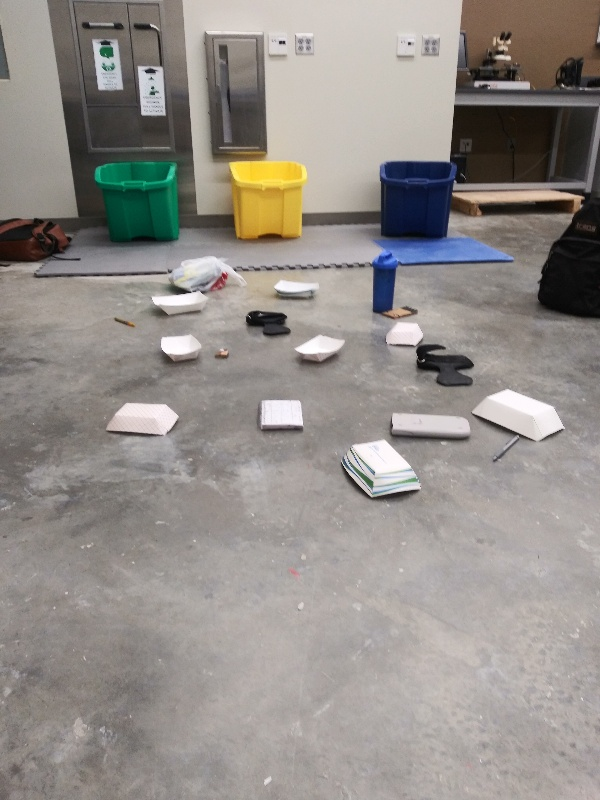plate: (470, 384, 568, 446), (338, 435, 426, 497), (99, 401, 186, 439), (148, 289, 214, 319), (291, 332, 348, 365), (155, 330, 204, 368), (270, 275, 327, 302), (381, 317, 428, 349)
